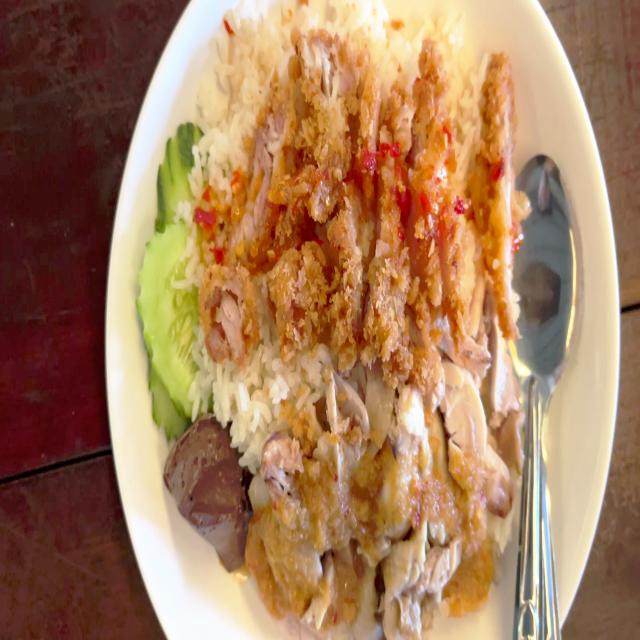boiled_chicken: (247, 369, 514, 619)
boiled_chicken_blood_jelly: (162, 416, 242, 570)
chicken_rice: (134, 0, 525, 640)
cucumber: (139, 120, 210, 426)
fried_chicken: (203, 34, 521, 359)
